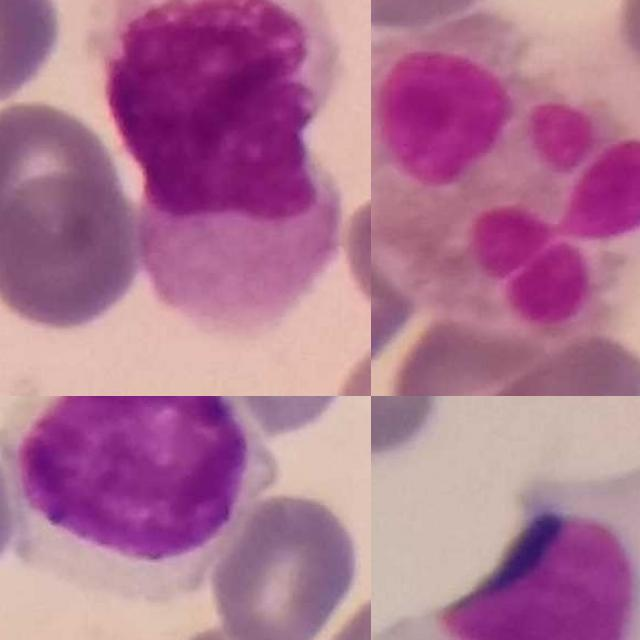Eosinophil: (371, 12, 640, 338)
Monocyte: (104, 0, 339, 338), (12, 396, 277, 598), (371, 461, 640, 640)
